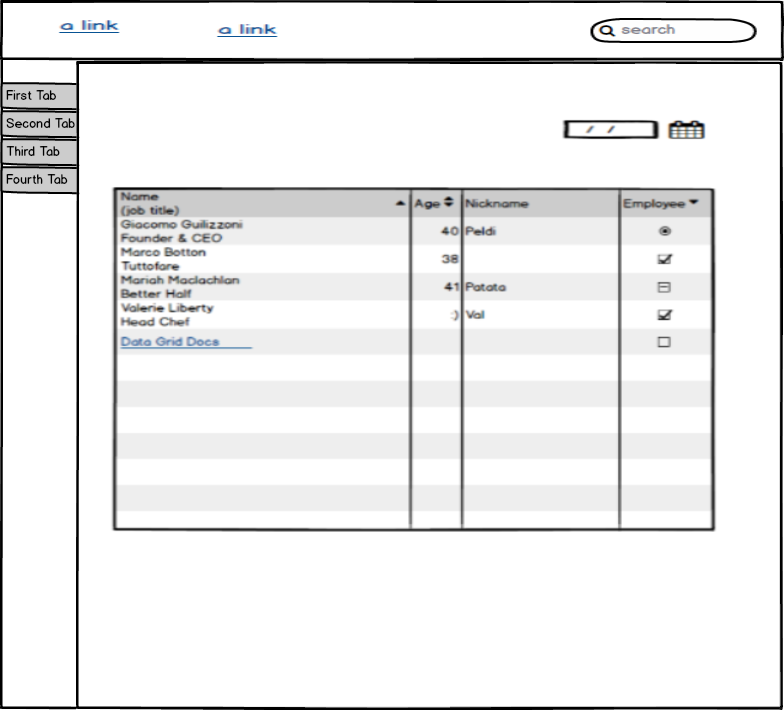date_picker: (554, 109, 716, 148)
navlink: (40, 13, 133, 41), (209, 17, 282, 42)
search: (584, 12, 762, 47)
sidebar: (1, 75, 81, 202)
table: (108, 183, 720, 534)
